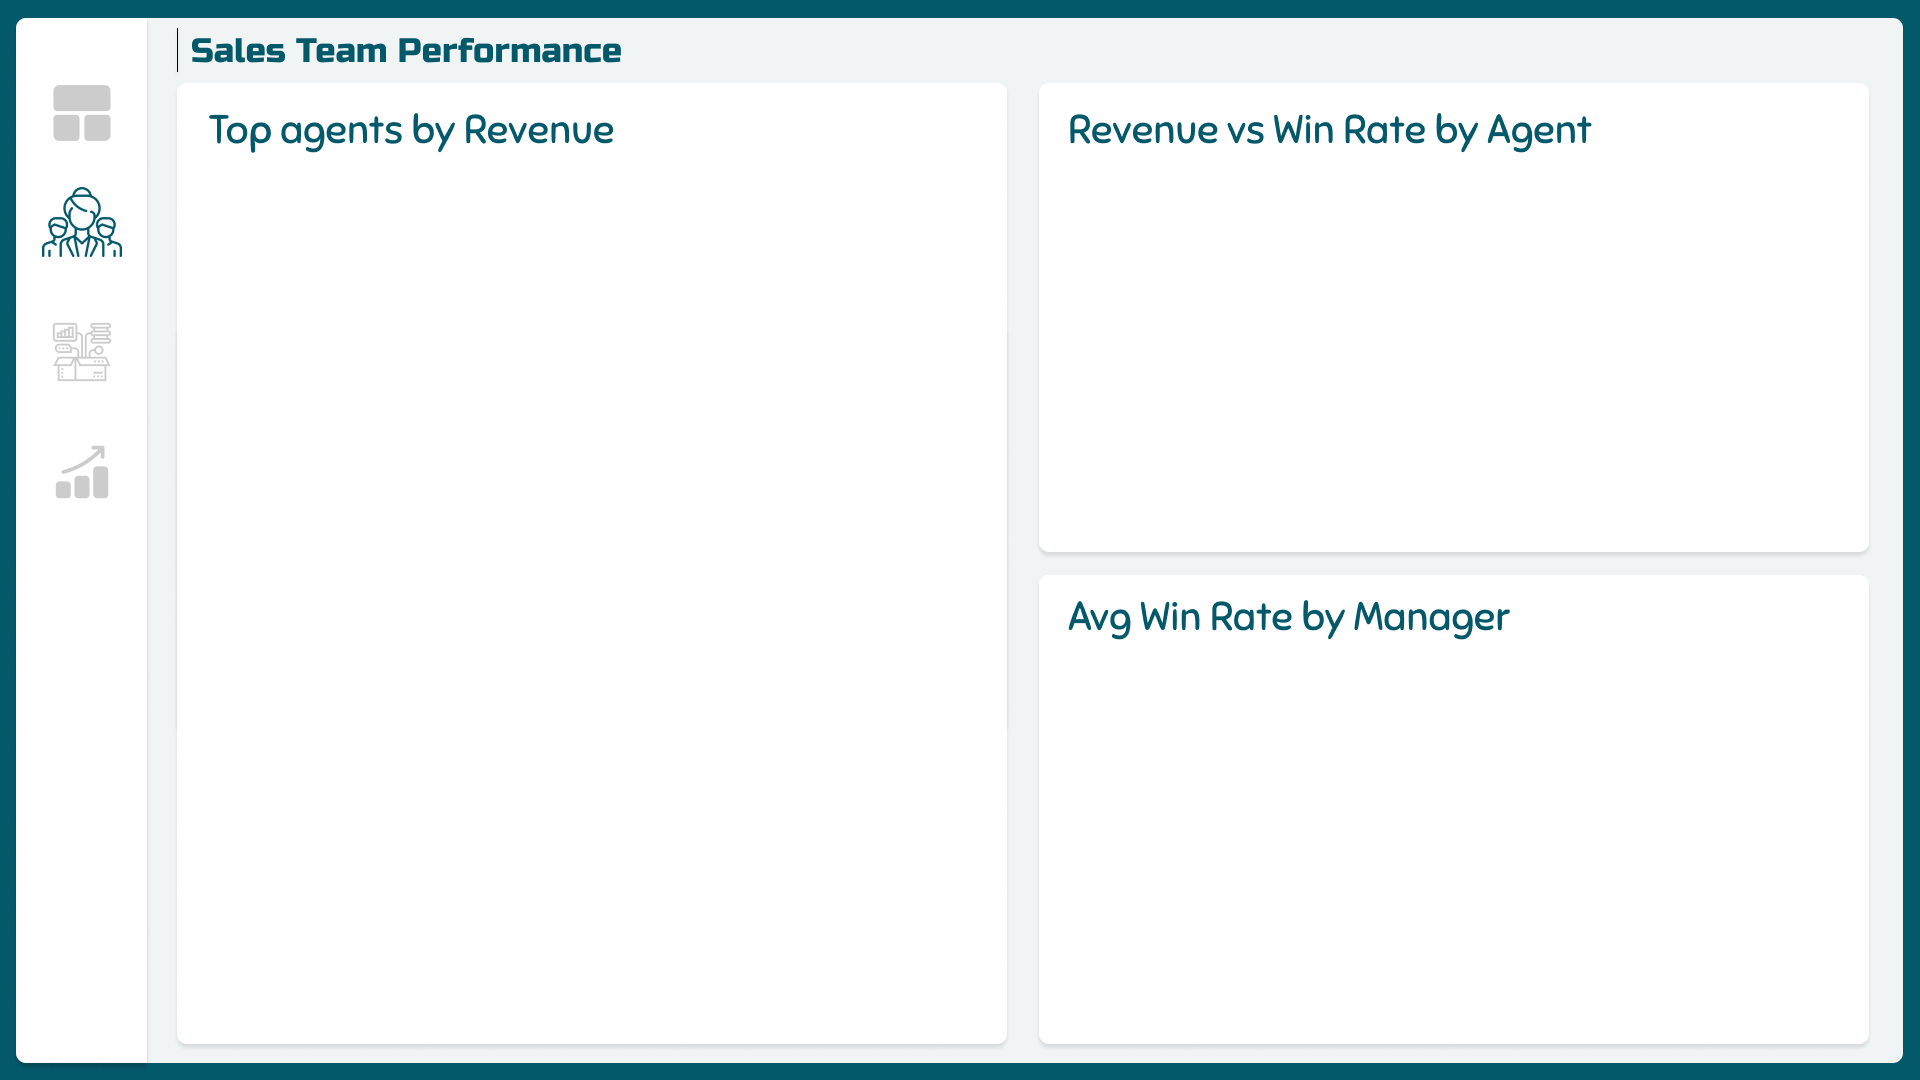

The page's visual inventory and layout, read from the dashboard file:
{"tool":"powerbi","page":{"name":"Sales Team Performance","canvas":[1920,1080],"ordinal":1},"visuals":[{"type":"actionButton","box":[33.8,71.4,99.6,80.8],"z":0},{"type":"actionButton","box":[33.8,313.8,99.6,80.8],"z":1000},{"type":"actionButton","box":[33.8,430.3,99.6,80.8],"z":2000},{"type":"scatterChart","fields":{"Category":["sales_pipeline.sales_agent"],"X":["sales_pipeline.Total Revenue"],"Y":["sales_pipeline.Win Rate"]},"box":[1052.3,152.2,808,387.1],"z":3000},{"type":"clusteredColumnChart","fields":{"Category":["sales_teams.manager"],"Y":["sales_pipeline.Win Rate"]},"box":[1069.2,646.4,772.3,372.1],"z":4000},{"type":"tableEx","fields":{"Values":["sales_teams.manager","sales_teams.regional_office","sales_teams.sales_agent","sales_pipeline.Total Revenue"]},"box":[191.7,167.2,808,851.2],"z":5000}]}

Visuals, with their boxes on the page's 1920x1080 design canvas (x1, y1, x2, y2). These are canvas units, not pixel positions in the 1920x1080 screenshot, which may show the page scaled, cropped or inside an application window:
actionButton: bbox=[34, 71, 133, 152]
actionButton: bbox=[34, 314, 133, 395]
actionButton: bbox=[34, 430, 133, 511]
scatterChart - sales_pipeline.sales_agent x sales_pipeline.Total Revenue: bbox=[1052, 152, 1860, 539]
clusteredColumnChart - sales_teams.manager x sales_pipeline.Win Rate: bbox=[1069, 646, 1842, 1018]
tableEx - sales_teams.manager x sales_teams.regional_office: bbox=[192, 167, 1000, 1018]
